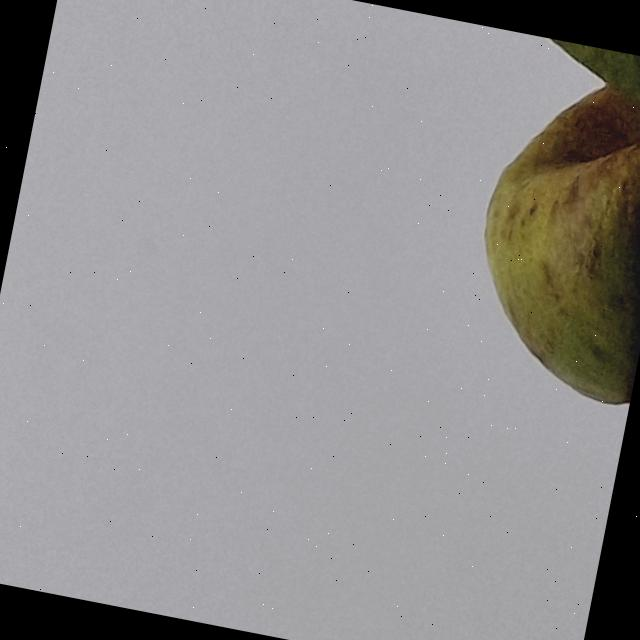mangosteen: (210, 0, 640, 640)
